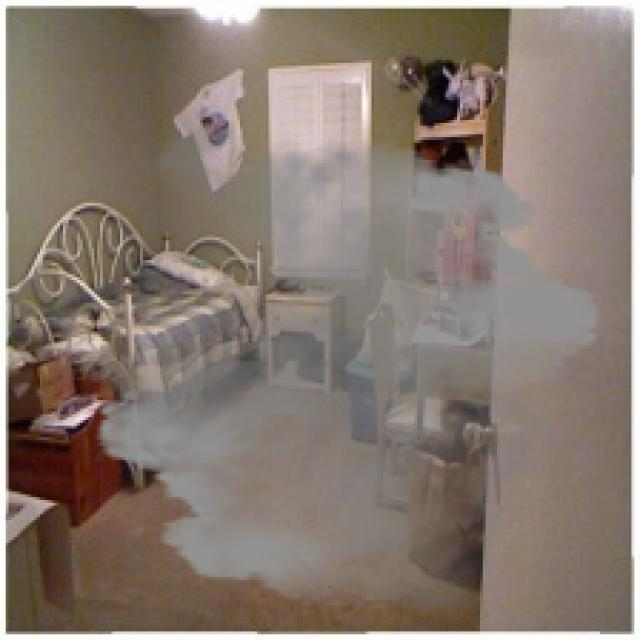smoke: (80, 106, 617, 628)
